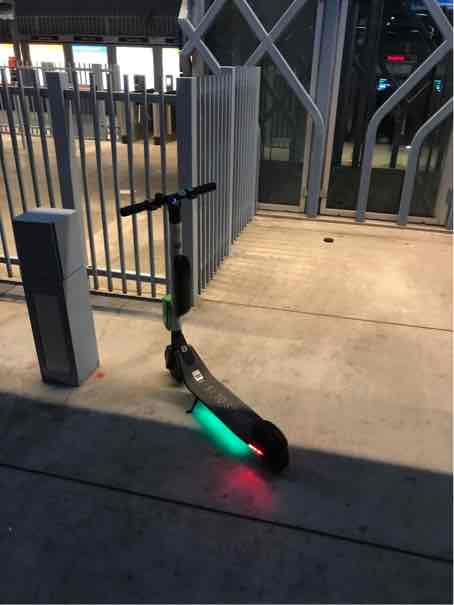scooter: (101, 172, 292, 468)
